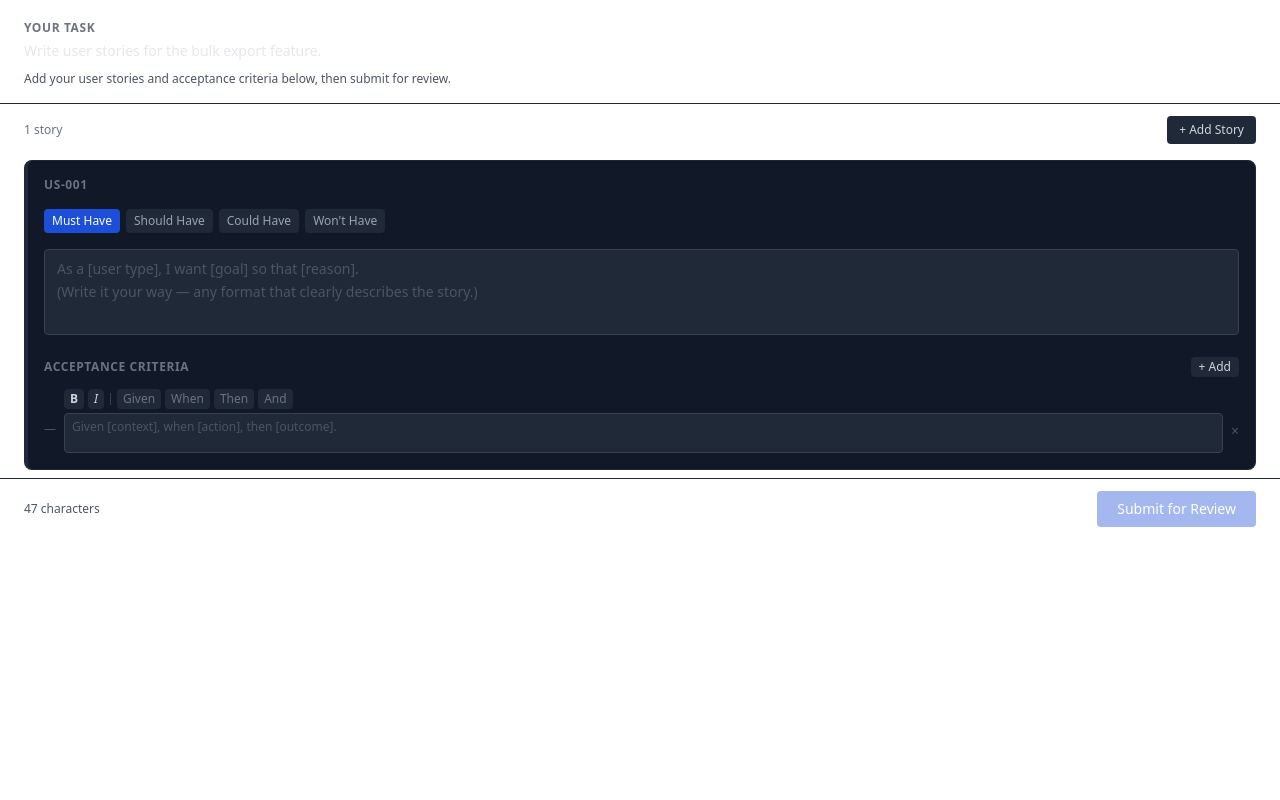
Test: DocumentEditor › Add Story button adds a second card
Click the button "+ Add Story". click: (1212, 130)
box: top-left (1167, 116), bottom-right (1256, 144)
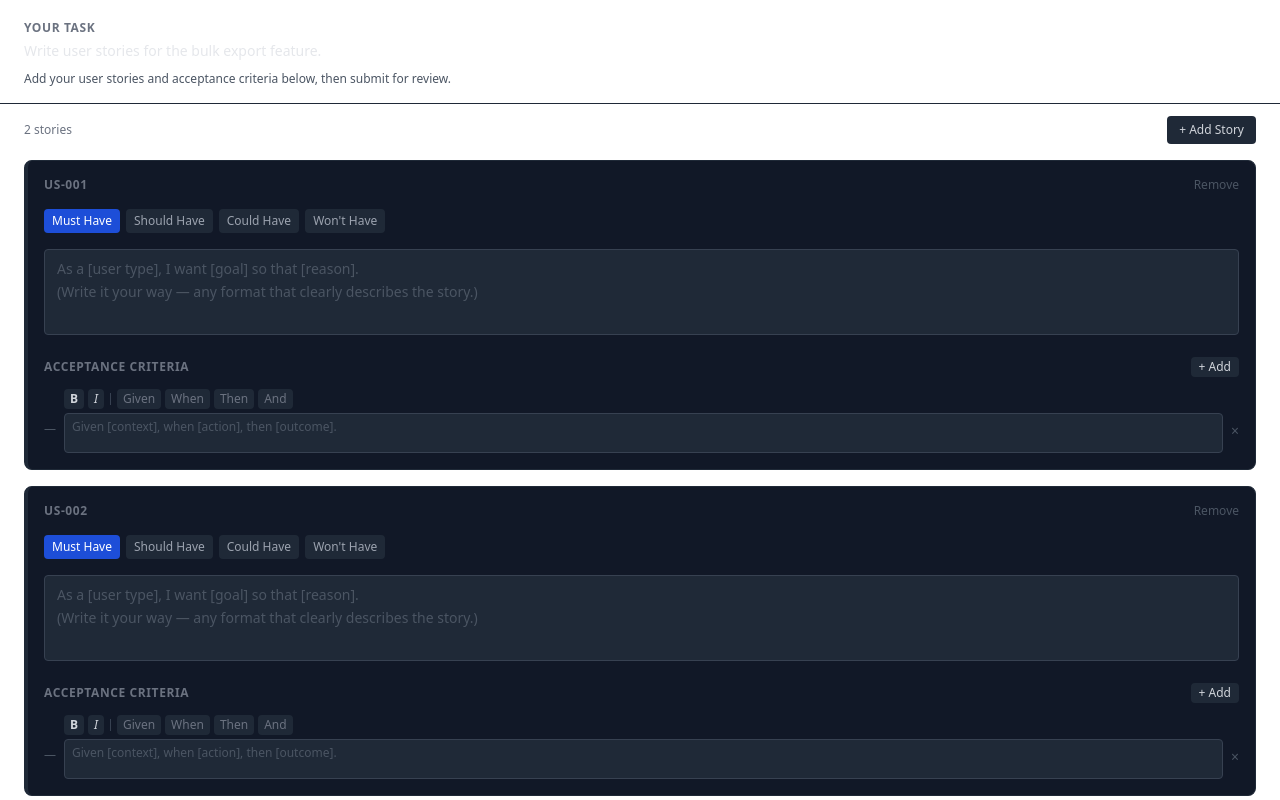
Check: the text "2 stories" is shown, box top-left (24, 122), bottom-right (72, 138)
